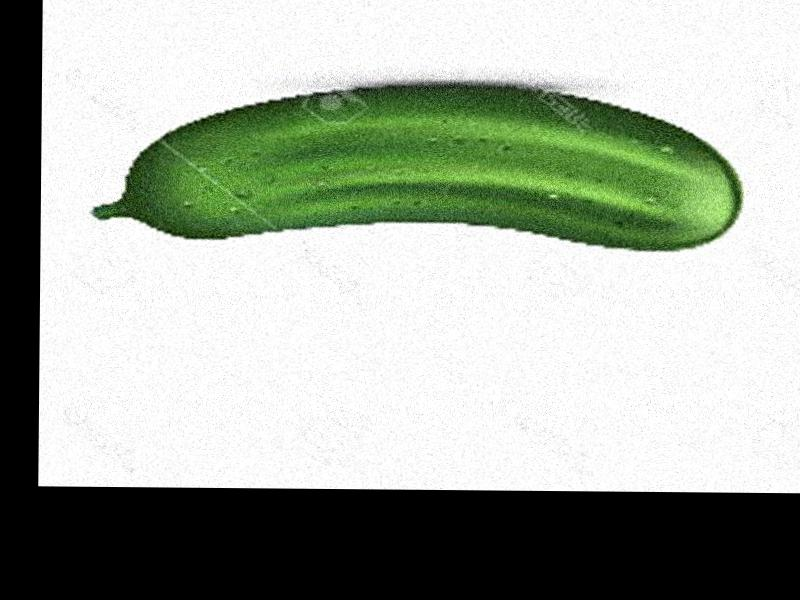Cucumber: (93, 79, 743, 251)
